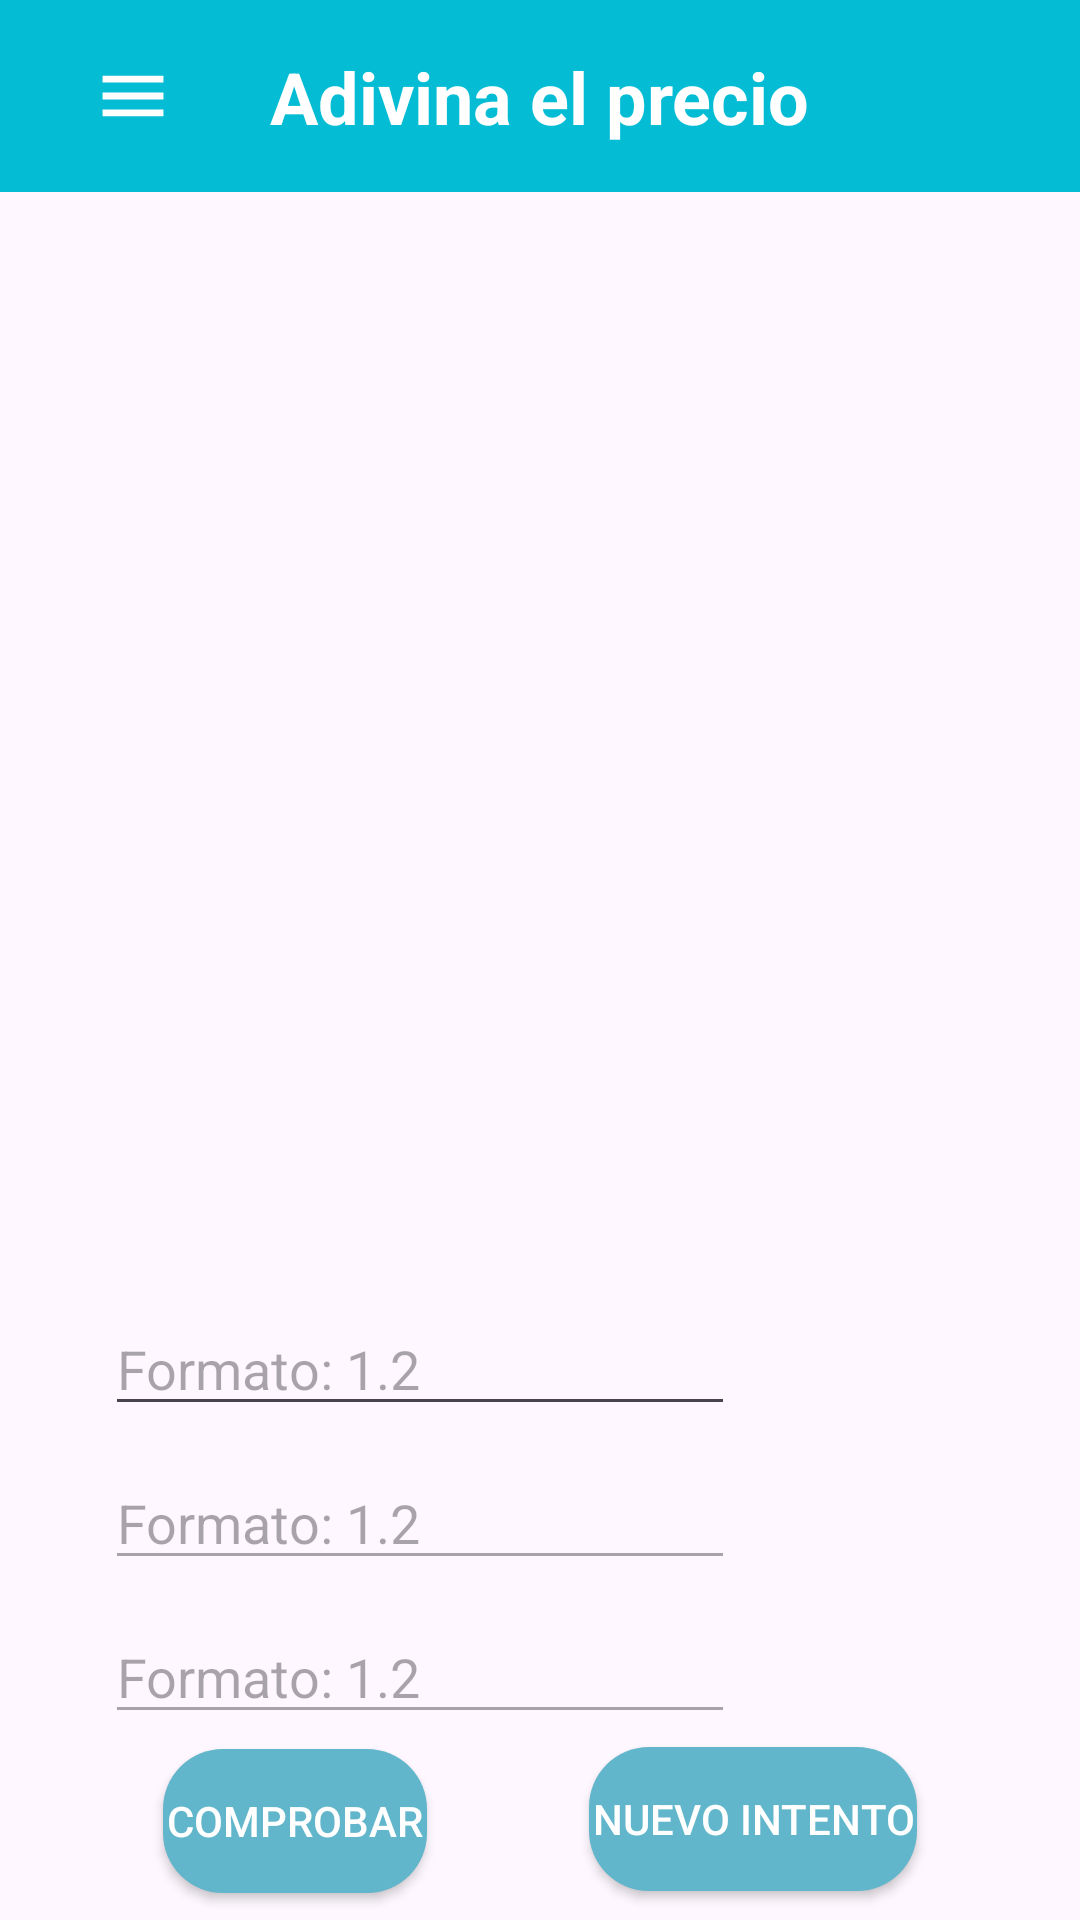

Locate icon controls on the screen. Image size 1080*1920, boxes as (x1, y1, x2, y2).
menu: (102, 75, 164, 117)
